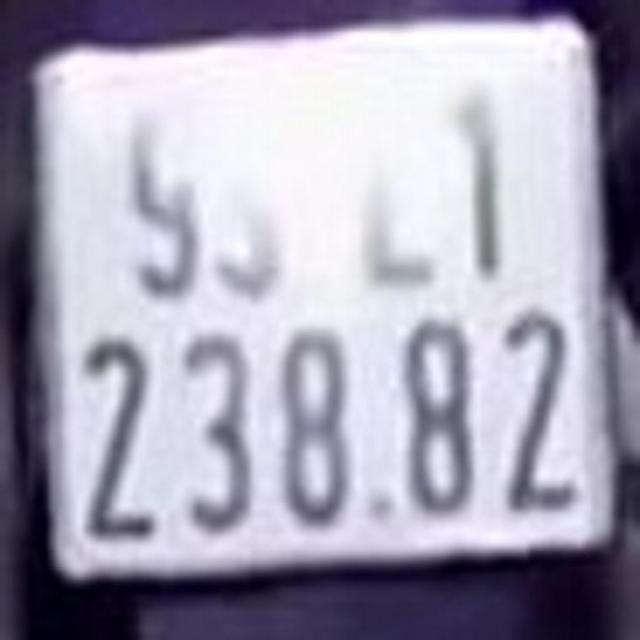1: (447, 78, 513, 278)
2: (502, 302, 581, 516), (84, 332, 160, 540)
3: (180, 323, 254, 535)
8: (401, 307, 476, 512), (282, 324, 349, 526)
9: (127, 99, 203, 303), (214, 95, 288, 298)
L: (357, 98, 438, 288)
